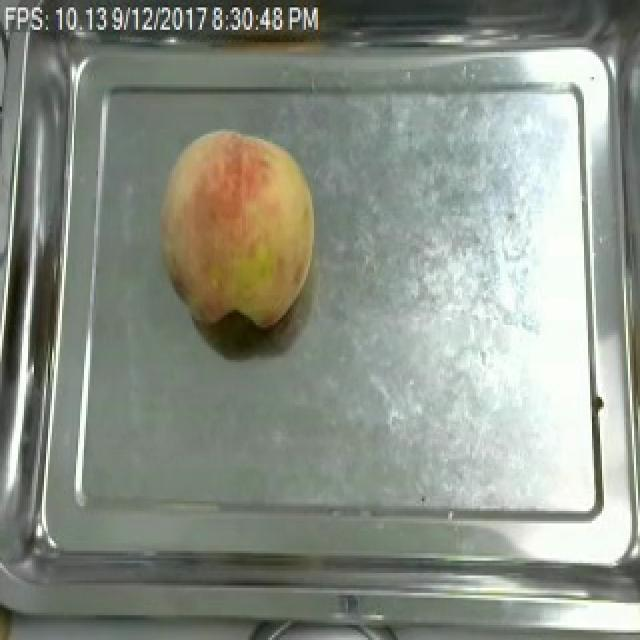Fruit: (150, 121, 324, 335)
